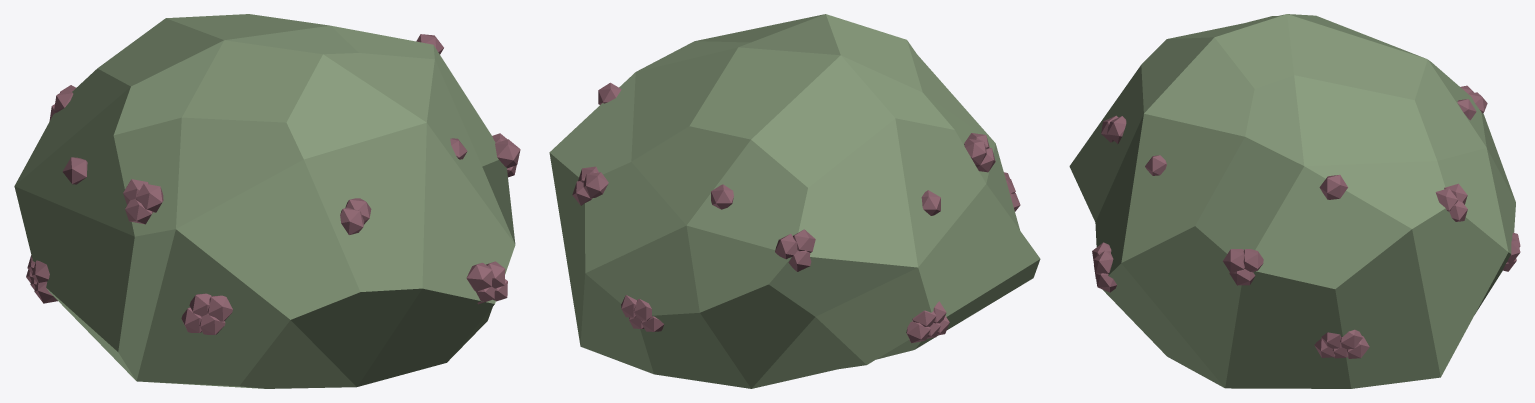
The model's file is BerryBush4.fbx.
3 views of the same model, side by side, from view 1: azimuth 30°, elevation 25°; view 2: azimuth 150°, elevation 25°; view 3: azimuth 270°, elevation 25° (orthographic). The views are drawn at different scales.
Parts seen in each view (by area): view 1: Berry_Small_bush; view 2: Berry_Small_bush; view 3: Berry_Small_bush.
Part boxes in pixels (x1,y1,x2,y2): Berry_Small_bush: [14, 14, 520, 388]; Berry_Small_bush: [549, 14, 1040, 388]; Berry_Small_bush: [1069, 14, 1520, 388].
Size of the model in its own units: 7.3 by 4.86 by 7.17.
